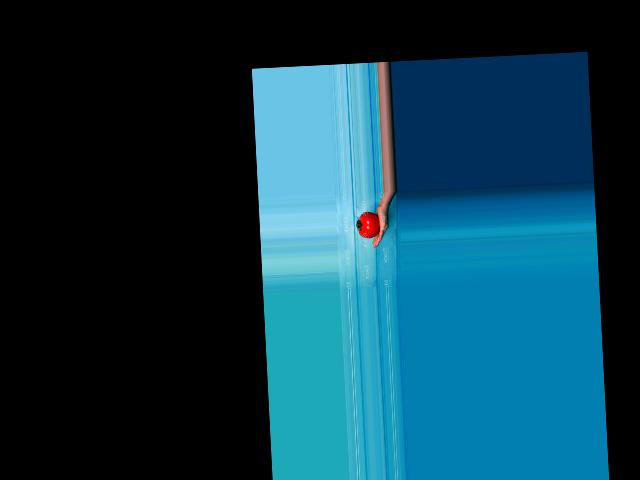tomato: (356, 212, 380, 239)
